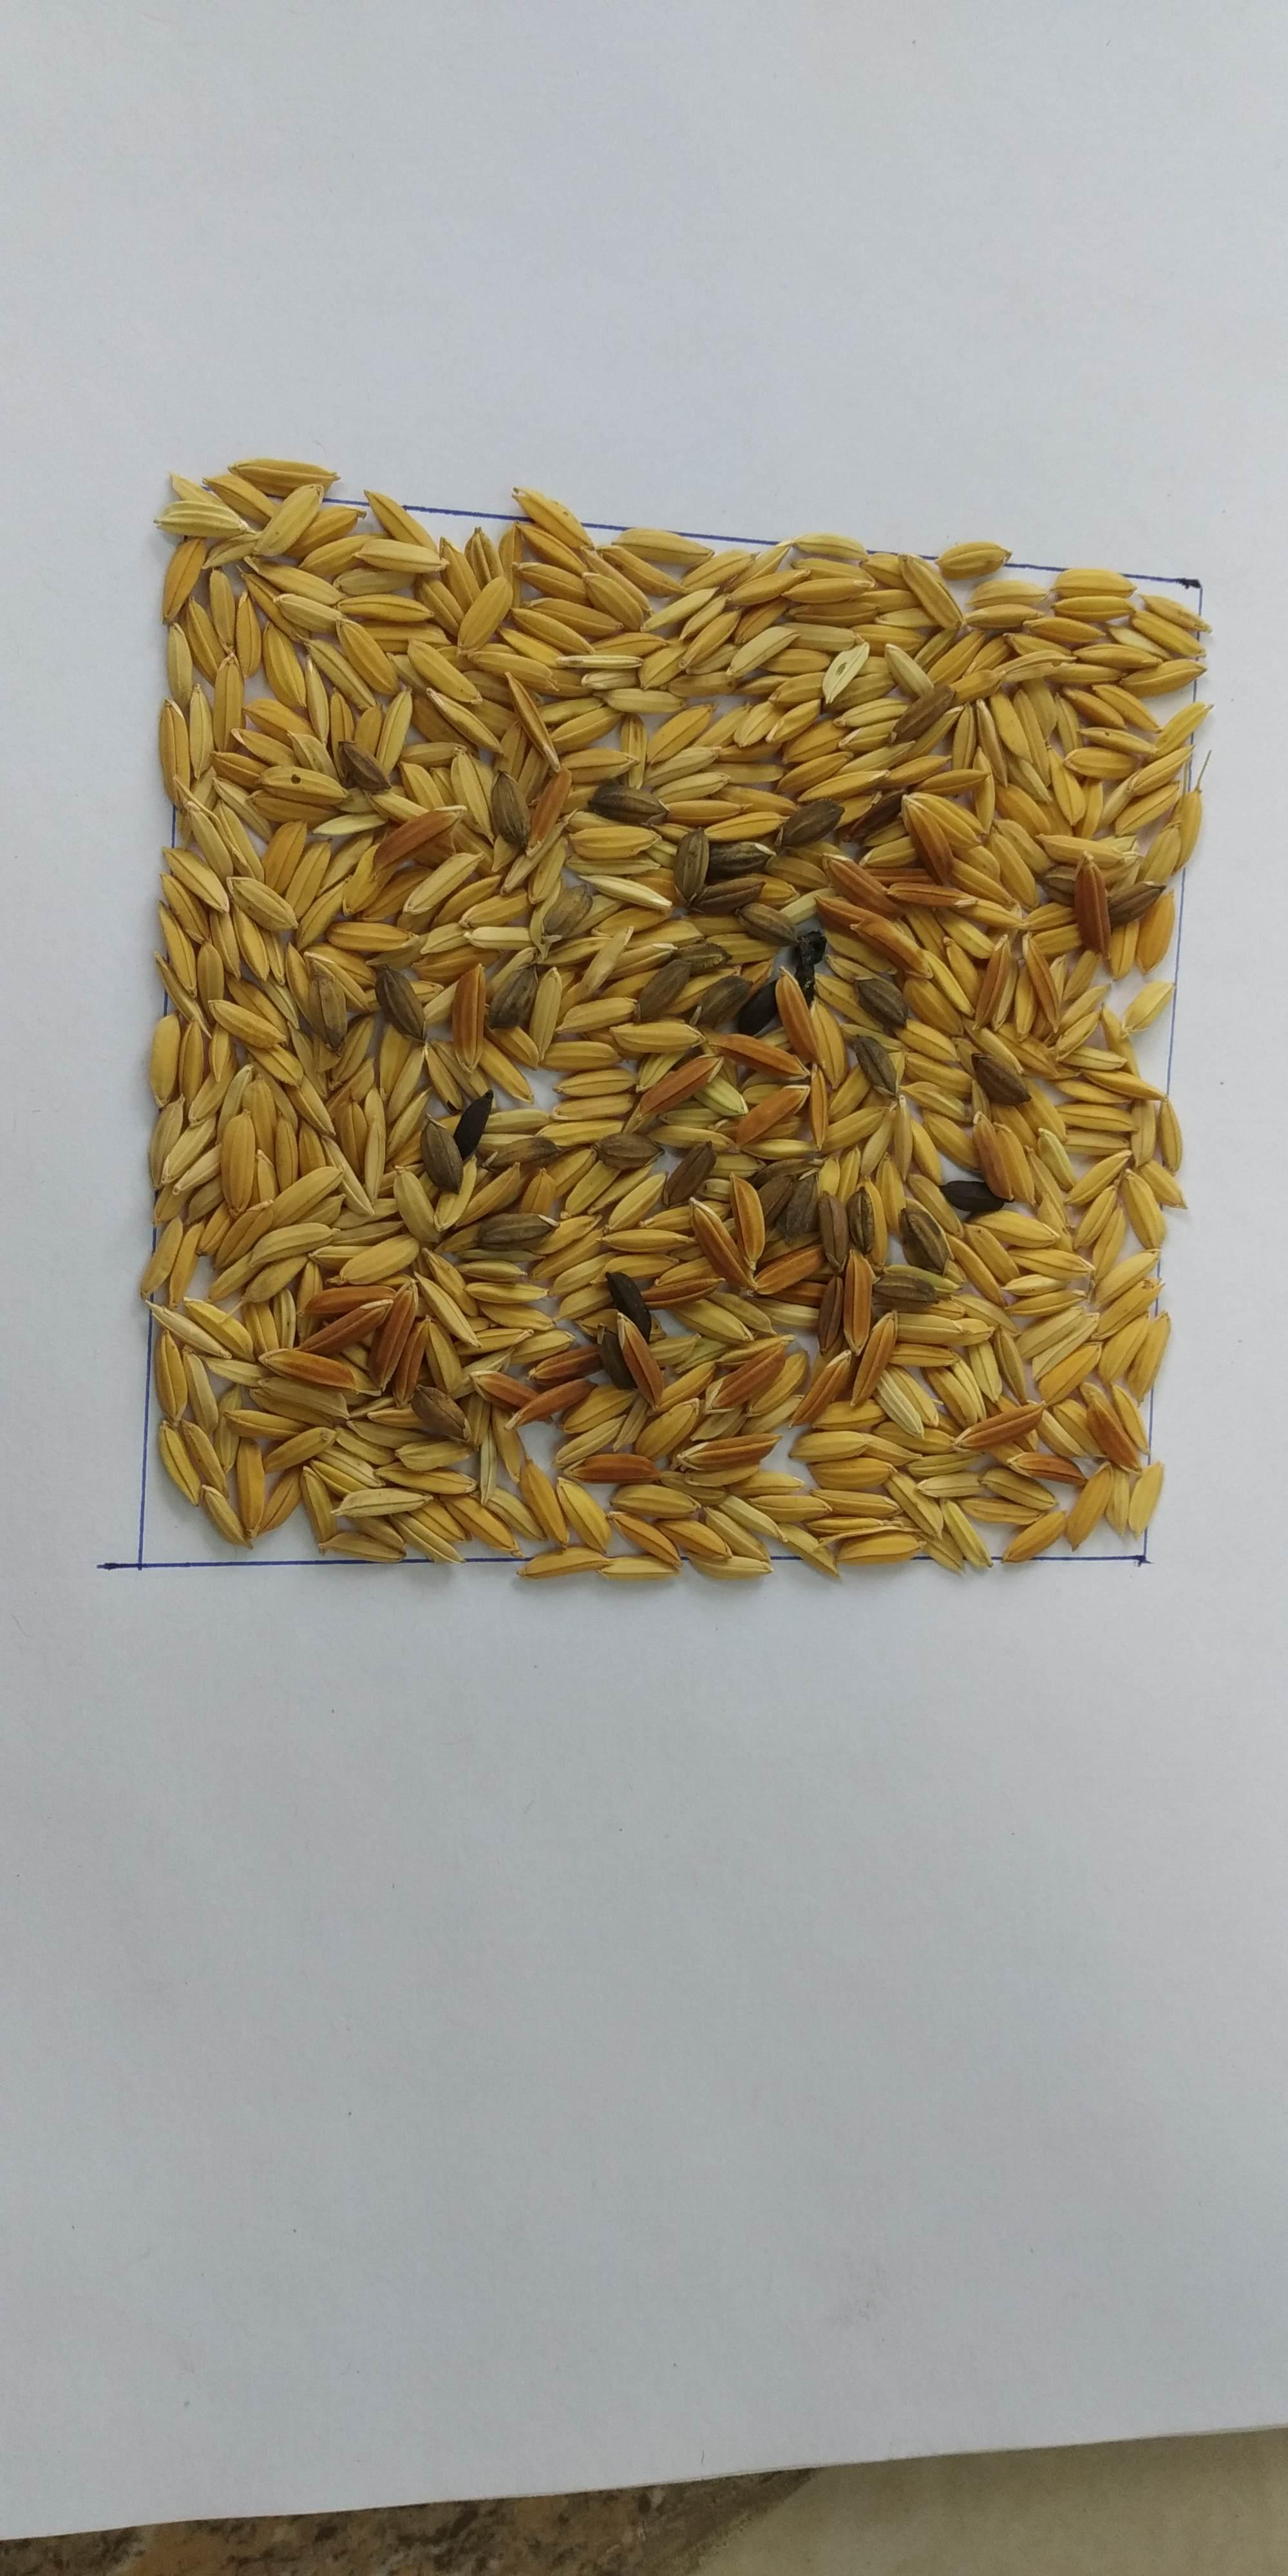impure: (205, 588, 1148, 1533)
